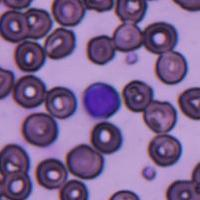L: (82, 80, 120, 120)
